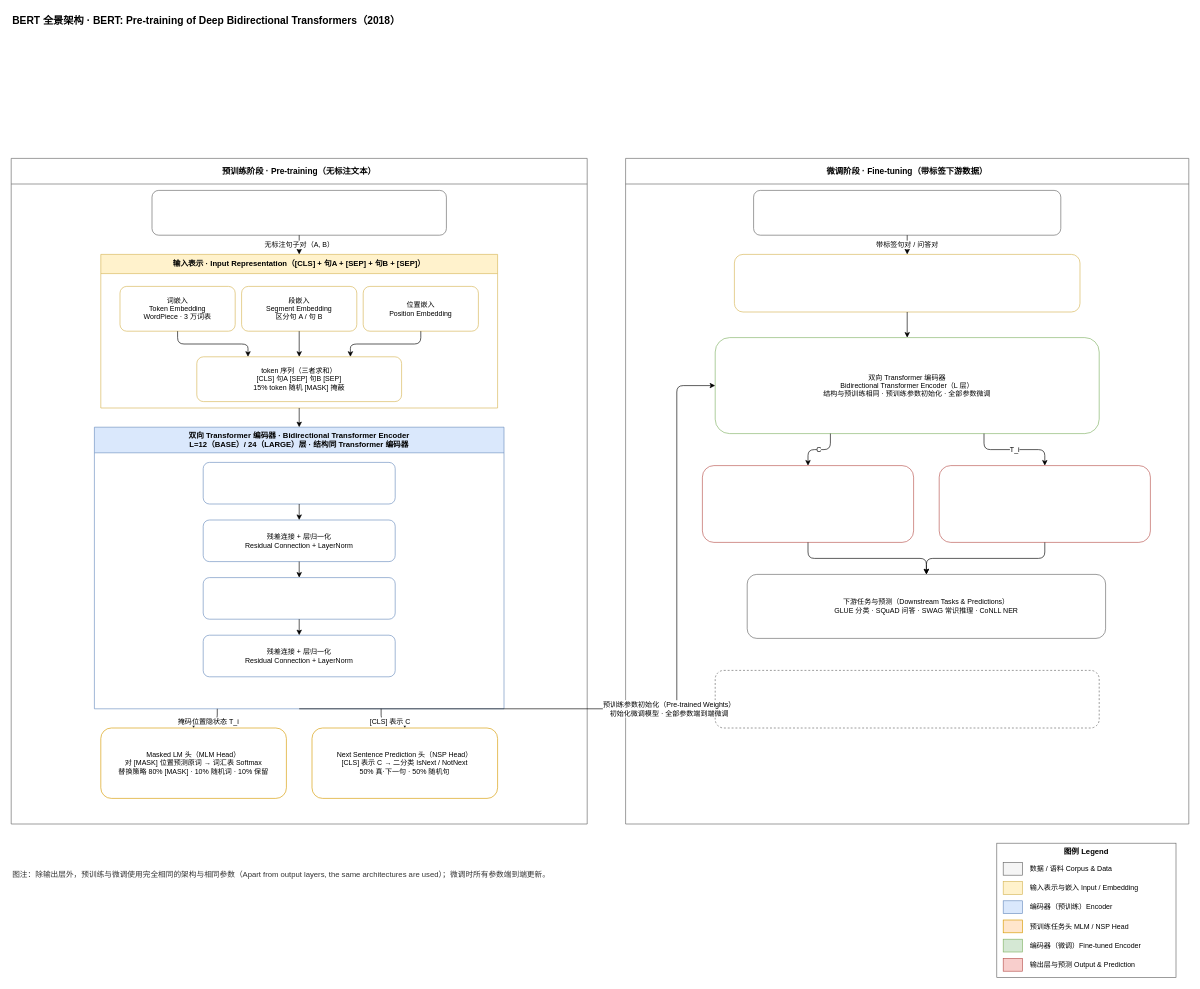
The diagram is 1200 pixels wide and 989 high, and some of its shapes have lost their labels. The centre of each missing label's shape, as x and y in pixels:
"Token 级输出层（Token-level） 各位置 T_i → 起止向量 S/E（答案跨度）· 序列标注 SQuAD 问答 · 命名实体识别" belongs at point (1044, 503).
"下游任务数据（带标签） Downstream Task Data (labeled) 如：问答对、推理句对、分类句子" belongs at point (907, 212).
"任务输入（同一输入表示） Task Inputs（同一 [CLS] 构造） 句A / 句B = 问题/段落 或 前提/假设" belongs at point (907, 283).
"双向多头自注意力 Bidirectional Multi-Head Self-Attention 每 token 同时看左右上下文（区别于 GPT 单向）" belongs at point (299, 483).
"句子级输出层（Sentence-level） [CLS] 表示 C → 分类层 W（K×H）→ softmax MNLI · SST-2 · SWAG 等" belongs at point (808, 503).
"每个下游任务分别微调（Separate fine-tuned models） 同一套预训练权重初始化 → 每任务一套微调参数" belongs at point (907, 699).
"逐位置前馈网络 Position-wise FFN · 内层 4H=3072" belongs at point (299, 598).
"预训练语料（无标注文本） Pre-training Corpus (unlabeled) BooksCorpus 8 亿词 + 英文维基百科 25 亿词" belongs at point (298, 212).
